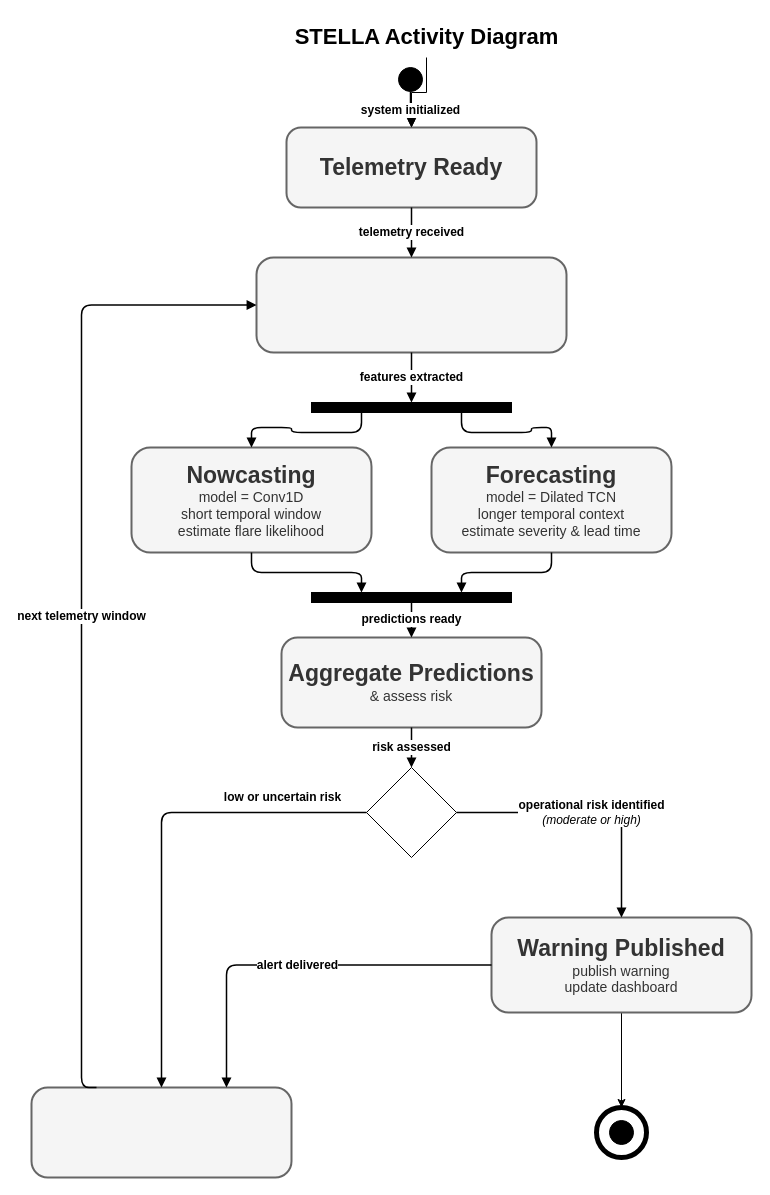
Some shapes in this 770 by 1195 pixel diagram are drawn without their labels. Here are the shapes that lost their labels. From the top down, the centre of each, then its label:
At point 411,304: "Ingest & Detect Activity extract features".
At point 411,812: "Risk Level?".
At point 161,1132: "Monitoring wait for next telemetry window".
